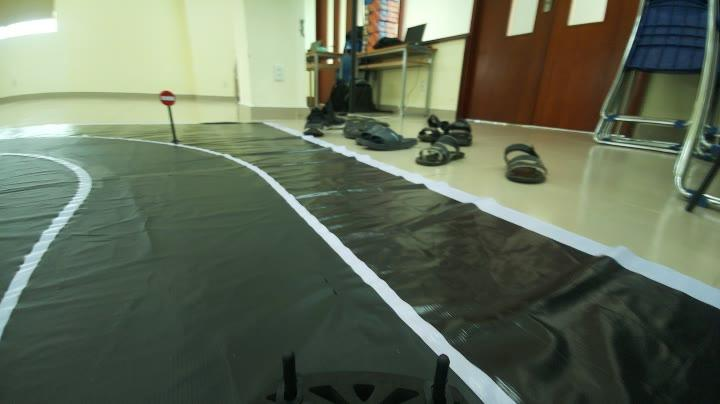no_entry: (155, 88, 180, 108)
